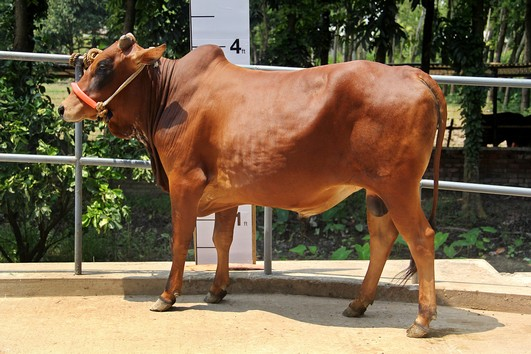cow: (56, 29, 449, 341)
